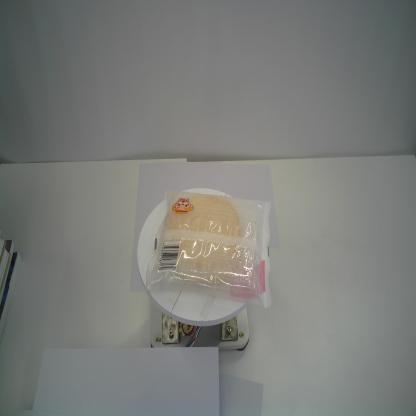Dessert: (144, 189, 274, 309)
